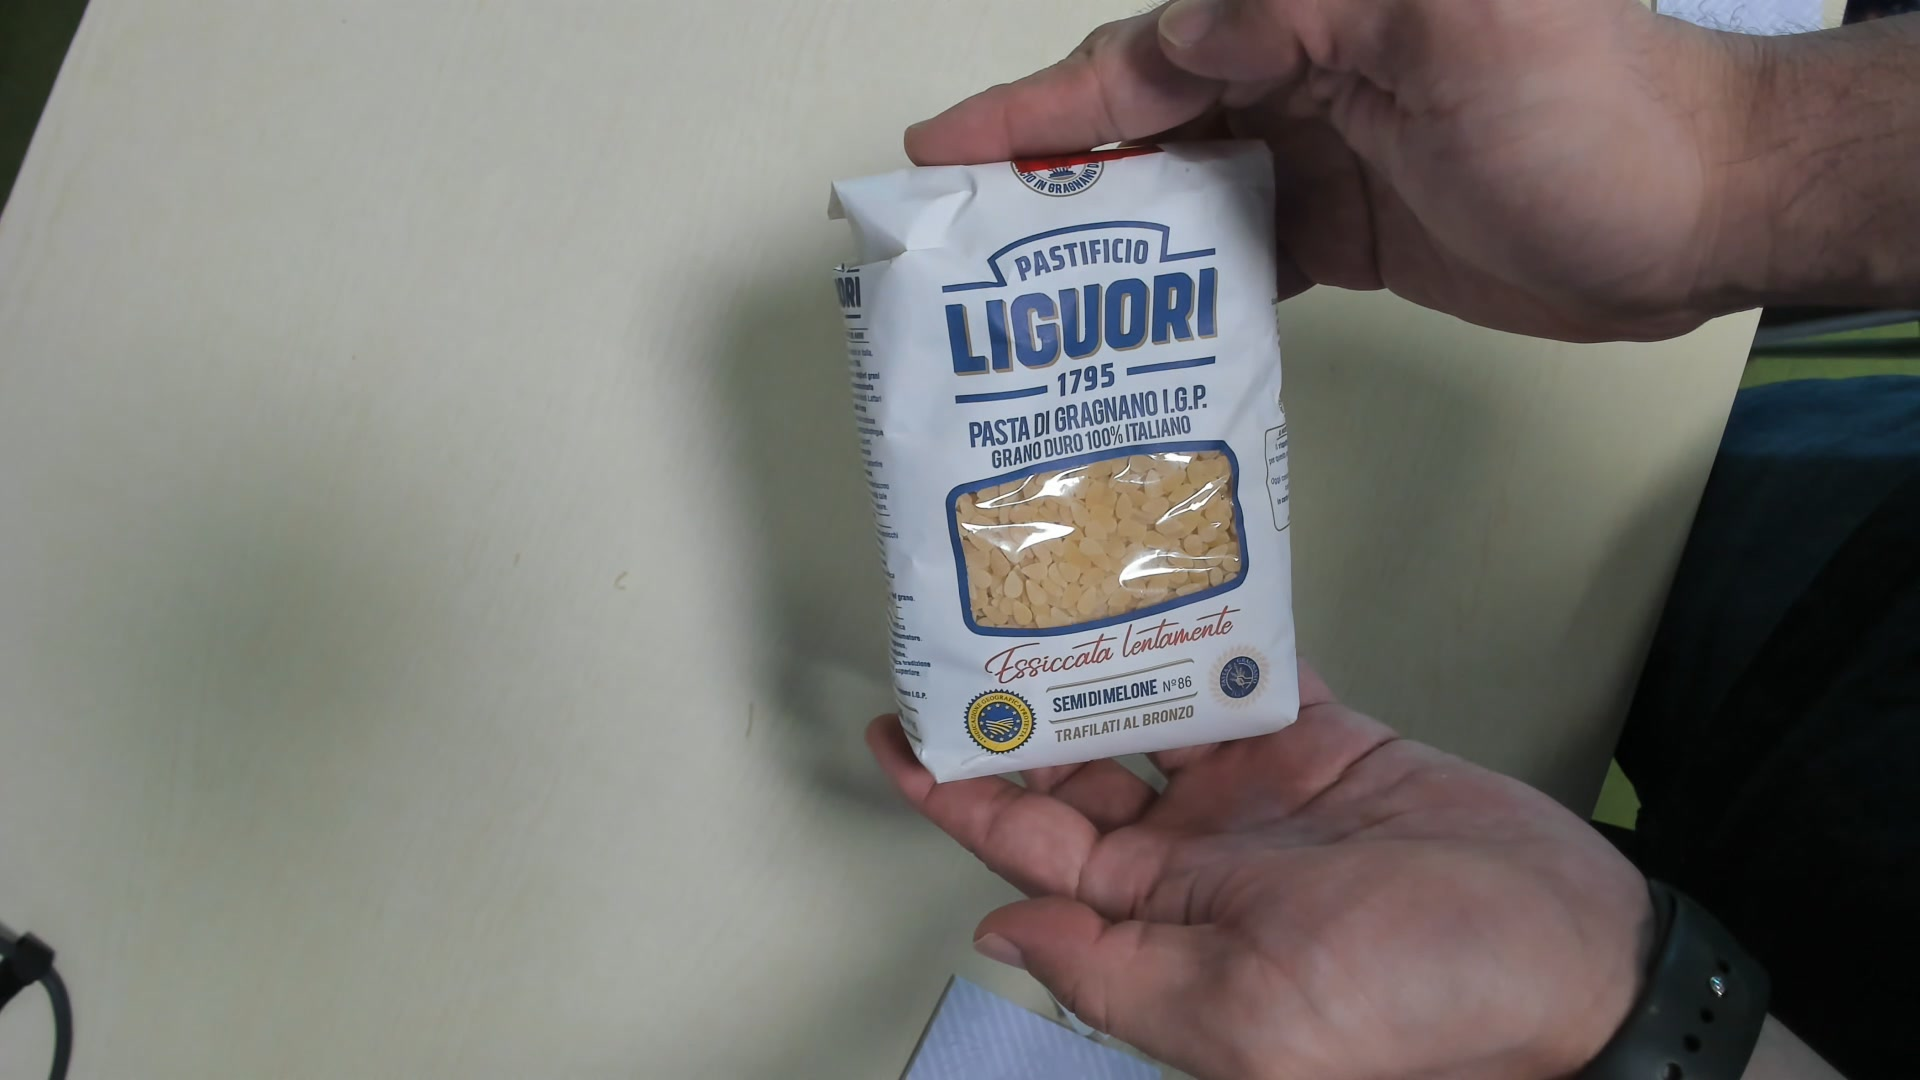Pasta_500-599g_NonHalal_NonHealthy: (835, 138, 1302, 767)
